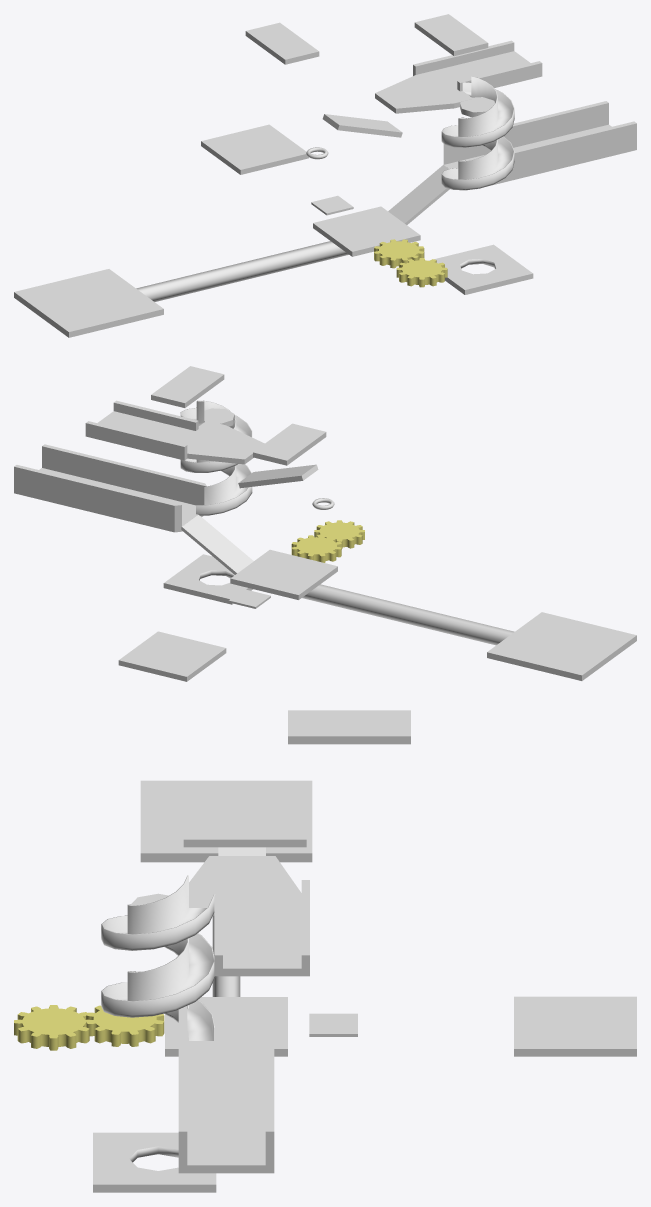
Rendered from level2.glb.
3 views of the same model, one above another, from view 1: azimuth 30°, elevation 25°; view 2: azimuth 150°, elevation 25°; view 3: azimuth 270°, elevation 25° (orthographic). The views are drawn at different scales.
Visible parts, largest first — view 1: Cube-col.003, platform-ab, spiral-col, Cylinder-ab, Cube-col.007, Cube-col.004, Cube-col, Cube-col.001, Cube-col.008, Cube-col.009, Cube-col.006, Cube-col.002 (+5 smaller); view 2: Cube-col.003, platform-ab, Cylinder-ab, Cube-col.007, Cube-col.004, Cube-col, spiral-col, Cube-col.001, Cube-col.008, Cube-col.006, Cube-col.009, Cube-col.002 (+4 smaller); view 3: Cube-col.003, spiral-col, platform-ab, Cube-col.004, Cube-col.007, Cube-col.008, Cube-col.001, Cube-col.009, Cube-col.006, Cube-col, Gear2-ab, Gear-ab (+2 smaller).
Part boxes in pixels (x1=…): Cube-col.003: x1=443, y1=101, x2=636, y2=189; platform-ab: x1=14, y1=269, x2=163, y2=337; spiral-col: x1=441, y1=76, x2=514, y2=190; Cylinder-ab: x1=136, y1=241, x2=348, y2=301; Cube-col.007: x1=432, y1=40, x2=542, y2=91; Cube-col.004: x1=201, y1=124, x2=308, y2=174; Cube-col: x1=313, y1=206, x2=420, y2=256; Cube-col.001: x1=375, y1=60, x2=473, y2=113; Cube-col.008: x1=429, y1=244, x2=533, y2=294; Cube-col.009: x1=414, y1=14, x2=488, y2=56; Cube-col.006: x1=245, y1=22, x2=319, y2=64; Cube-col.002: x1=388, y1=165, x2=449, y2=224; Cube-col.003: x1=14, y1=444, x2=206, y2=532; platform-ab: x1=487, y1=612, x2=636, y2=680; Cylinder-ab: x1=302, y1=584, x2=514, y2=645; Cube-col.007: x1=85, y1=400, x2=198, y2=456; Cube-col.004: x1=118, y1=631, x2=226, y2=681; Cube-col: x1=230, y1=549, x2=337, y2=599; spiral-col: x1=180, y1=400, x2=252, y2=515; Cube-col.001: x1=165, y1=420, x2=264, y2=464; Cube-col.008: x1=163, y1=554, x2=252, y2=604; Cube-col.006: x1=253, y1=423, x2=326, y2=465; Cube-col.009: x1=151, y1=366, x2=224, y2=407; Cube-col.002: x1=181, y1=515, x2=253, y2=574; Cube-col.003: x1=178, y1=1006, x2=274, y2=1173; spiral-col: x1=101, y1=875, x2=215, y2=1040; platform-ab: x1=140, y1=780, x2=312, y2=862; Cube-col.004: x1=514, y1=996, x2=636, y2=1056; Cube-col.007: x1=214, y1=892, x2=309, y2=976; Cube-col.008: x1=93, y1=1132, x2=216, y2=1192; Cube-col.001: x1=189, y1=856, x2=309, y2=915; Cube-col.009: x1=183, y1=813, x2=306, y2=847; Cube-col.006: x1=288, y1=710, x2=410, y2=744; Cube-col: x1=165, y1=997, x2=287, y2=1056; Gear2-ab: x1=14, y1=1005, x2=92, y2=1050; Gear-ab: x1=86, y1=1005, x2=164, y2=1046.
Size of what is drawn, in the model's own units: 75.34 by 27.09 by 44.88.
